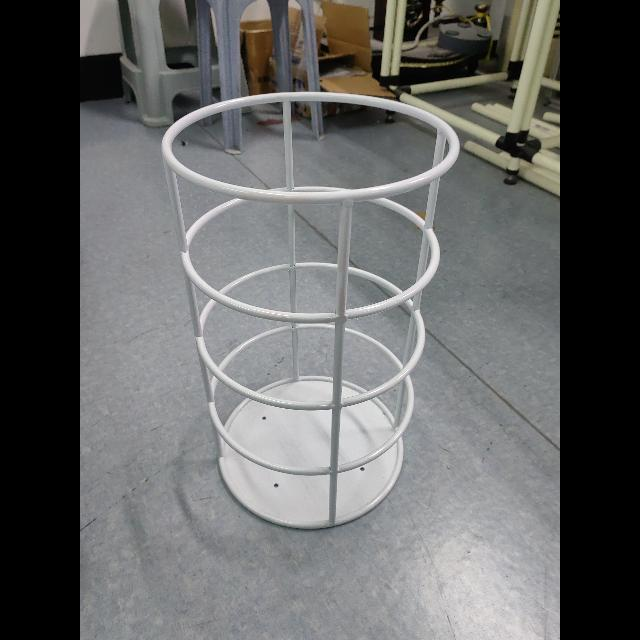S: (158, 89, 464, 534)
